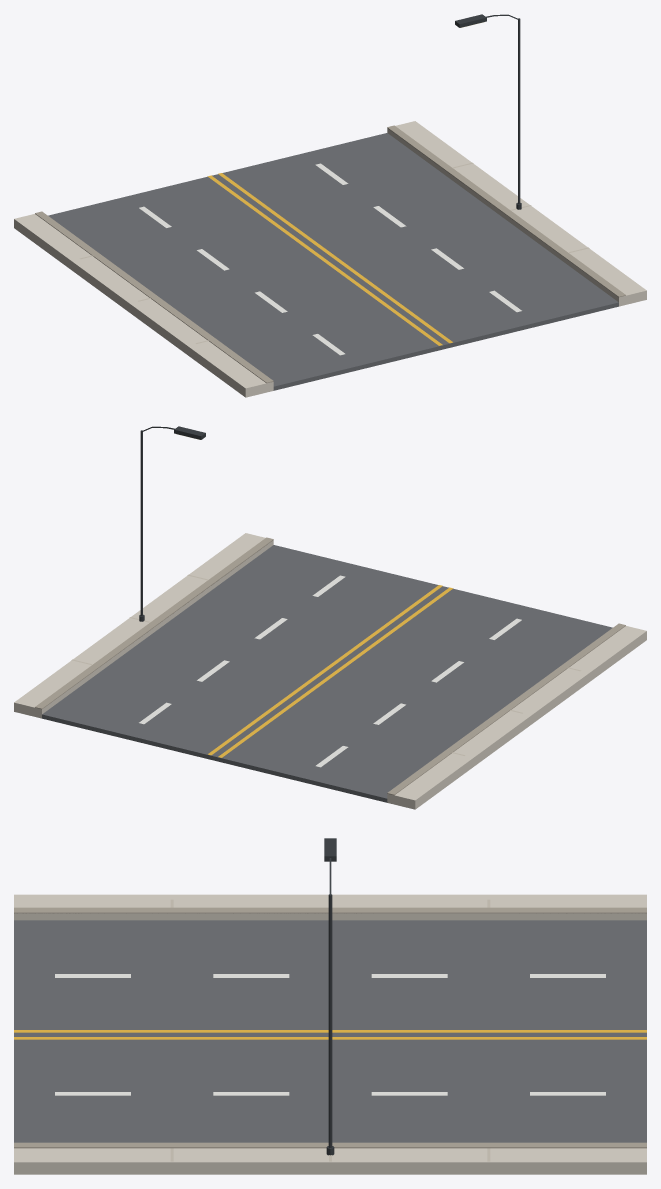
Rendered from Yol_cadde_01_Hafif.fbx.
3 views of the same model, one above another, from view 1: azimuth 30°, elevation 25°; view 2: azimuth 150°, elevation 25°; view 3: azimuth 270°, elevation 25° (orthographic). The views are drawn at different scales.
Parts seen in each view (by area): view 1: Yol_cadde_01_Hafif; view 2: Yol_cadde_01_Hafif; view 3: Yol_cadde_01_Hafif.
Part boxes in pixels (x1,y1,x2,y2): Yol_cadde_01_Hafif: (14,14,646,397); Yol_cadde_01_Hafif: (14,426,646,809); Yol_cadde_01_Hafif: (14,838,646,1174).
Bounding box in the file's own units: 10 × 5.01 × 10.
